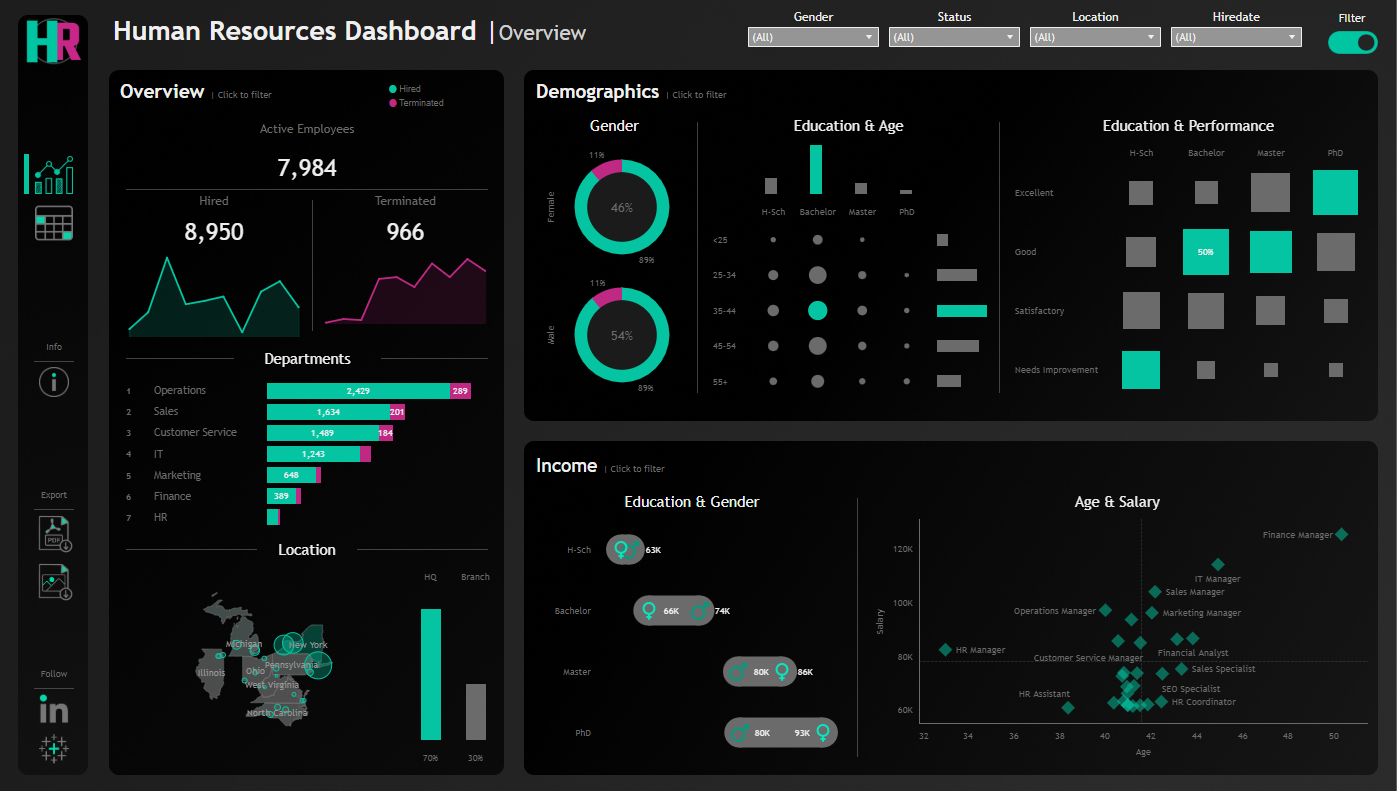

The page's visual inventory and layout, read from the dashboard file:
{"tool":"tableau","page":{"name":"HR | Overview","canvas":[1400,800],"ordinal":1},"visuals":[{"type":"image","param":"Image/image_1.png","box":[0,0,1400,800]},{"type":"blank","box":[93,0,1306,258]},{"type":"text","box":[110,0,691,75]},{"type":"blank","box":[801,0,579,75]},{"type":"filter","title":"Gender Vs Education Level","param":"[federated.1v8hcxl1o5ggyc12q4w9t14jhp2j].[none:Gender:nk]","box":[744,12,141,50]},{"type":"filter","title":"Gender Vs Education Level","param":"[federated.1v8hcxl1o5ggyc12q4w9t14jhp2j].[none:Calculation_112027095426244608:nk","box":[885,12,141,50]},{"type":"filter","title":"Gender Vs Education Level","param":"[federated.1v8hcxl1o5ggyc12q4w9t14jhp2j].[none:Calculation_204350887445397509:nk","box":[1026,12,141,50]},{"type":"filter","title":"Gender Vs Education Level","param":"[federated.1v8hcxl1o5ggyc12q4w9t14jhp2j].[yr:Hiredate:ok]","box":[1167,12,141,50]},{"type":"text","box":[1320,15,66,19]},{"type":"image","param":"Image/Logo.png","box":[20,20,70,55]},{"type":"dashboard-object","box":[1329,29,50,39]},{"type":"blank","box":[20,75,70,77]},{"type":"text","box":[117,82,382,35]},{"type":"text","box":[533,82,840,35]},{"type":"text","box":[390,85,100,33]},{"type":"text","box":[117,117,382,39]},{"type":"text","box":[533,122,165,29]},{"type":"blank","box":[698,122,1,291]},{"type":"text","box":[704,122,291,29]},{"type":"blank","box":[1000,122,1,291]},{"type":"text","box":[1006,122,367,29]},{"type":"worksheet","title":"Gender","mark":"Pie","rows":["Gender"],"cols":["Calculation_901564404779409409","Calculation_901564404779409409"],"box":[533,151,165,262]},{"type":"worksheet","title":"Education Levels","mark":"Bar","rows":["Calculation_204350887428407296"],"cols":["Education Level"],"box":[704,151,291,59]},{"type":"worksheet","title":"Education Vs Performance","mark":"Square","rows":["Performance Rating"],"cols":["Education Level"],"box":[1006,151,367,262]},{"type":"worksheet","title":"BAN Active","mark":"Text","box":[117,156,382,43]},{"type":"blank","box":[25,160,5,40]},{"type":"dashboard-object","box":[30,162,50,38]},{"type":"blank","box":[117,199,382,1]},{"type":"blank","box":[30,200,50,10]},{"type":"text","box":[117,200,196,26]},{"type":"blank","box":[313,200,1,151]},{"type":"text","box":[314,200,184.9,26]},{"type":"dashboard-object","box":[30,210,50,38]},{"type":"worksheet","title":"Age Vs Education","mark":"Circle","rows":["Calculation_901564404785246212"],"cols":["Education Level"],"box":[704,210,230,203]},{"type":"worksheet","title":"Age Groups","mark":"Bar","rows":["Calculation_901564404785246212"],"cols":["Calculation_204350887428407296"],"box":[934,210,61,203]},{"type":"worksheet","title":"BAN Hired","mark":"Text","box":[117,226,196,36]},{"type":"worksheet","title":"BAN Terminated","mark":"Text","box":[314,226,184.9,38]},{"type":"blank","box":[30,248,50,94]},{"type":"text","box":[93,258,1306,288]},{"type":"worksheet","title":"Hired By Year","mark":"Line","rows":["Calculation_204350887428407296","Calculation_204350887428407296"],"cols":["Hiredate"],"box":[117,262,196,89]},{"type":"worksheet","title":"Terminated By Year","mark":"Line","rows":["Calculation_204350887428923393","Calculation_204350887428923393"],"cols":["Termdate"],"box":[314,264,184.9,87]},{"type":"text","box":[30,342,50,20]},{"type":"blank","box":[117,356,128,25]},{"type":"text","box":[245,356,127,25]},{"type":"blank","box":[372,356,127,25]},{"type":"blank","box":[30,362,50,11]},{"type":"dashboard-object","box":[30,373,50,30]},{"type":"worksheet","title":"Departments","mark":"Bar","rows":["Calculation_204350887439859716","Department"],"cols":["Calculation_204350887428407296"],"box":[117,386,382,152]},{"type":"blank","box":[30,403,50,87]},{"type":"text","box":[533,454.5,840,35]},{"type":"text","box":[30,490,50,20]},{"type":"text","box":[533,494.5,320,29]},{"type":"blank","box":[858,494.5,1,278.5]},{"type":"text","box":[864,494.5,509,29]},{"type":"blank","box":[30,510,50,11]},{"type":"dashboard-object","box":[30,521,50,38]},{"type":"worksheet","title":"Gender Vs Education Level","mark":"Square","rows":["Education Level"],"cols":["Salary","Salary"],"box":[533,523.5,320,249.5]},{"type":"worksheet","title":"Age Vs Salary","mark":"Shape","rows":["Salary"],"cols":["Calculation_901564404784250883"],"box":[864,523.5,509,249.5]},{"type":"blank","box":[117,538,151,35]},{"type":"text","box":[268,538,80,35]},{"type":"blank","box":[348,538,151,35]},{"type":"blank","box":[93,546,1306,254]},{"type":"blank","box":[30,559,50,10]},{"type":"dashboard-object","box":[30,569,50,38]},{"type":"worksheet","title":"Map States","mark":"Automatic","box":[117,573,292,200]},{"type":"worksheet","title":"Location","mark":"Bar","rows":["Calculation_204350887428407296"],"cols":["Calculation_204350887445397509","Calculation1"],"box":[409,573,90,200]},{"type":"blank","box":[30,607,50,62]},{"type":"text","box":[30,669,50,20]},{"type":"blank","box":[30,689,50,11]},{"type":"image","param":"Image/contact-linkedin.png","box":[30,700,50,30]},{"type":"blank","box":[30,730,50,10]},{"type":"image","param":"Image/contact-public.png","box":[30,740,50,30]}]}

Visuals, with their boxes in screenshot pixels (x1, y1, x2, y2), scaled from the page's 1400x800 canvas onto the 1397x791 screenshot:
image: detection(0, 0, 1396, 790)
blank: detection(93, 0, 1396, 255)
text: detection(110, 0, 799, 74)
blank: detection(799, 0, 1377, 74)
"Gender Vs Education Level" filter: detection(742, 12, 883, 61)
"Gender Vs Education Level" filter: detection(883, 12, 1024, 61)
"Gender Vs Education Level" filter: detection(1024, 12, 1164, 61)
"Gender Vs Education Level" filter: detection(1164, 12, 1305, 61)
text: detection(1317, 15, 1383, 34)
image: detection(20, 20, 90, 74)
dashboard-object: detection(1326, 29, 1376, 67)
blank: detection(20, 74, 90, 150)
text: detection(117, 81, 498, 116)
text: detection(532, 81, 1370, 116)
text: detection(389, 84, 489, 117)
text: detection(117, 116, 498, 154)
text: detection(532, 121, 697, 149)
blank: detection(697, 121, 698, 408)
text: detection(702, 121, 993, 149)
blank: detection(998, 121, 999, 408)
text: detection(1004, 121, 1370, 149)
"Gender" worksheet (Pie marks): detection(532, 149, 697, 408)
"Education Levels" worksheet (Bar marks): detection(702, 149, 993, 208)
"Education Vs Performance" worksheet (Square marks): detection(1004, 149, 1370, 408)
"BAN Active" worksheet (Text marks): detection(117, 154, 498, 197)
blank: detection(25, 158, 30, 198)
dashboard-object: detection(30, 160, 80, 198)
blank: detection(117, 197, 498, 198)
blank: detection(30, 198, 80, 208)
text: detection(117, 198, 312, 223)
blank: detection(312, 198, 313, 347)
text: detection(313, 198, 498, 223)
dashboard-object: detection(30, 208, 80, 245)
"Age Vs Education" worksheet (Circle marks): detection(702, 208, 932, 408)
"Age Groups" worksheet (Bar marks): detection(932, 208, 993, 408)
"BAN Hired" worksheet (Text marks): detection(117, 223, 312, 259)
"BAN Terminated" worksheet (Text marks): detection(313, 223, 498, 261)
blank: detection(30, 245, 80, 338)
text: detection(93, 255, 1396, 540)
"Hired By Year" worksheet (Line marks): detection(117, 259, 312, 347)
"Terminated By Year" worksheet (Line marks): detection(313, 261, 498, 347)
text: detection(30, 338, 80, 358)
blank: detection(117, 352, 244, 377)
text: detection(244, 352, 371, 377)
blank: detection(371, 352, 498, 377)
blank: detection(30, 358, 80, 369)
dashboard-object: detection(30, 369, 80, 398)
"Departments" worksheet (Bar marks): detection(117, 382, 498, 532)
blank: detection(30, 398, 80, 484)
text: detection(532, 449, 1370, 484)
text: detection(30, 484, 80, 504)
text: detection(532, 489, 851, 518)
blank: detection(856, 489, 857, 764)
text: detection(862, 489, 1370, 518)
blank: detection(30, 504, 80, 515)
dashboard-object: detection(30, 515, 80, 553)
"Gender Vs Education Level" worksheet (Square marks): detection(532, 518, 851, 764)
"Age Vs Salary" worksheet (Shape marks): detection(862, 518, 1370, 764)
blank: detection(117, 532, 267, 567)
text: detection(267, 532, 347, 567)
blank: detection(347, 532, 498, 567)
blank: detection(93, 540, 1396, 790)
blank: detection(30, 553, 80, 563)
dashboard-object: detection(30, 563, 80, 600)
"Map States" worksheet: detection(117, 567, 408, 764)
"Location" worksheet (Bar marks): detection(408, 567, 498, 764)
blank: detection(30, 600, 80, 661)
text: detection(30, 661, 80, 681)
blank: detection(30, 681, 80, 692)
image: detection(30, 692, 80, 722)
blank: detection(30, 722, 80, 732)
image: detection(30, 732, 80, 761)
